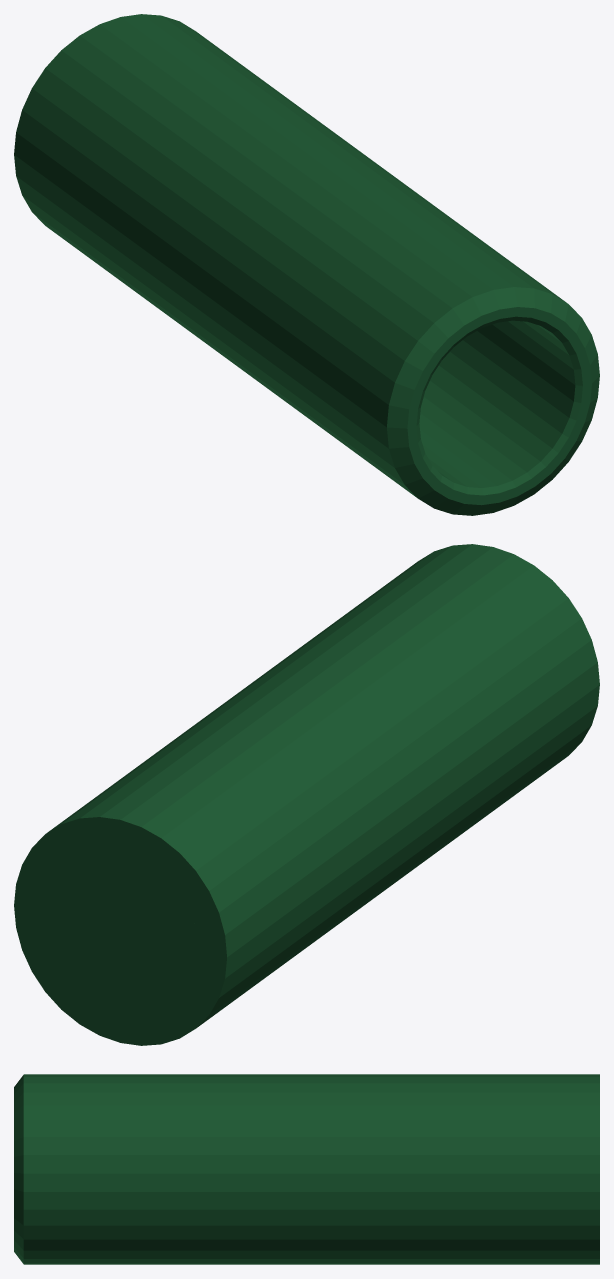
File: Hollow_Cylinder.fbx
3 renders of one model, top to bottom at view 1: azimuth 30°, elevation 25°; view 2: azimuth 150°, elevation 25°; view 3: azimuth 270°, elevation 25°, orthographic. The views are drawn at different scales.
Visible parts, largest first — view 1: Hollow_Cylinder; view 2: Hollow_Cylinder; view 3: Hollow_Cylinder.
Boxes of the visible parts, <box> form: Hollow_Cylinder: <box>14,14,599,515</box>; Hollow_Cylinder: <box>14,544,599,1045</box>; Hollow_Cylinder: <box>14,1074,599,1264</box>.
Bounding box in the file's own units: 97.37 × 97.37 × 300.
